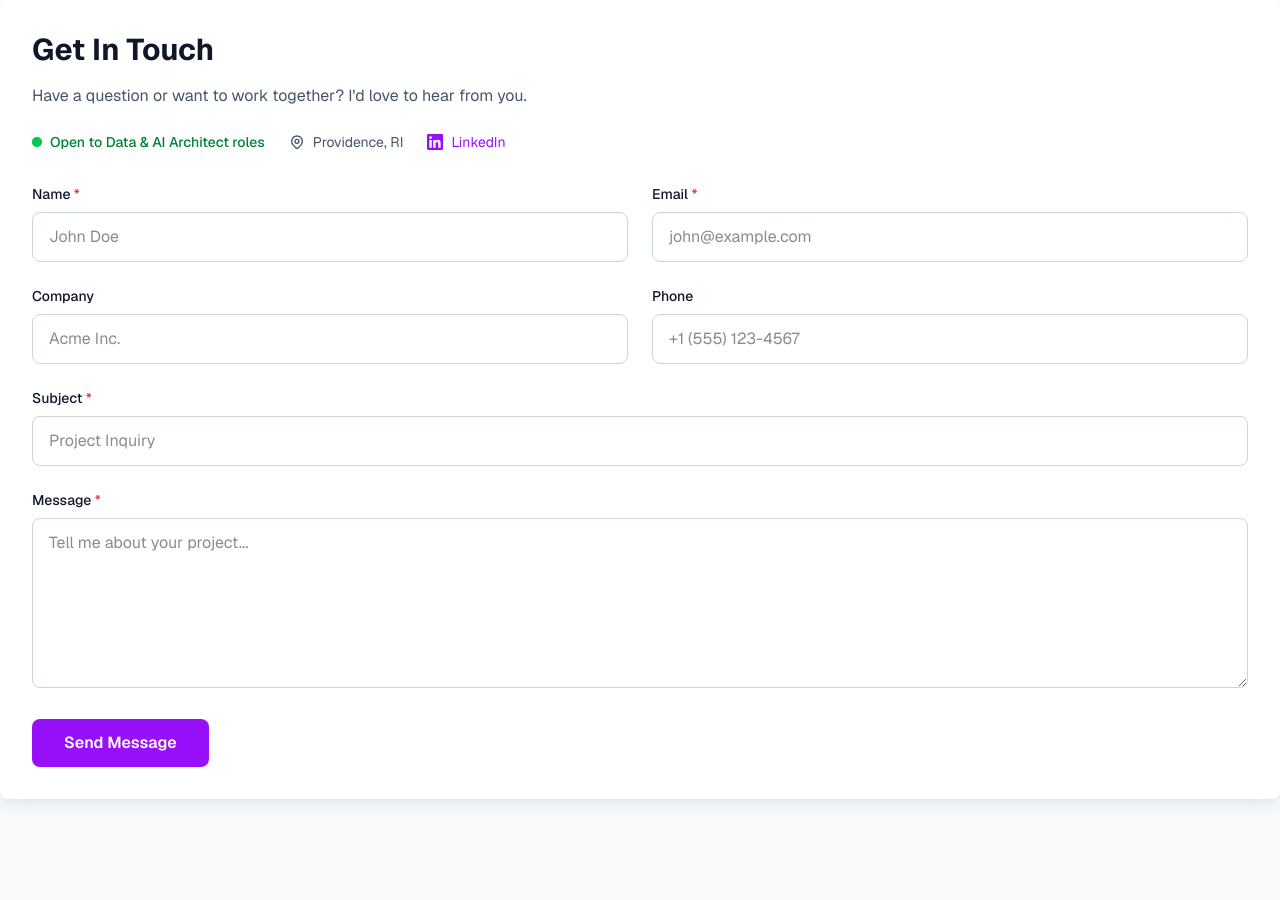
ContactForm Component › should validate minimum length for name
Type "A" into the field labelled "Name *" at [330, 237], box [32,212,628,262]
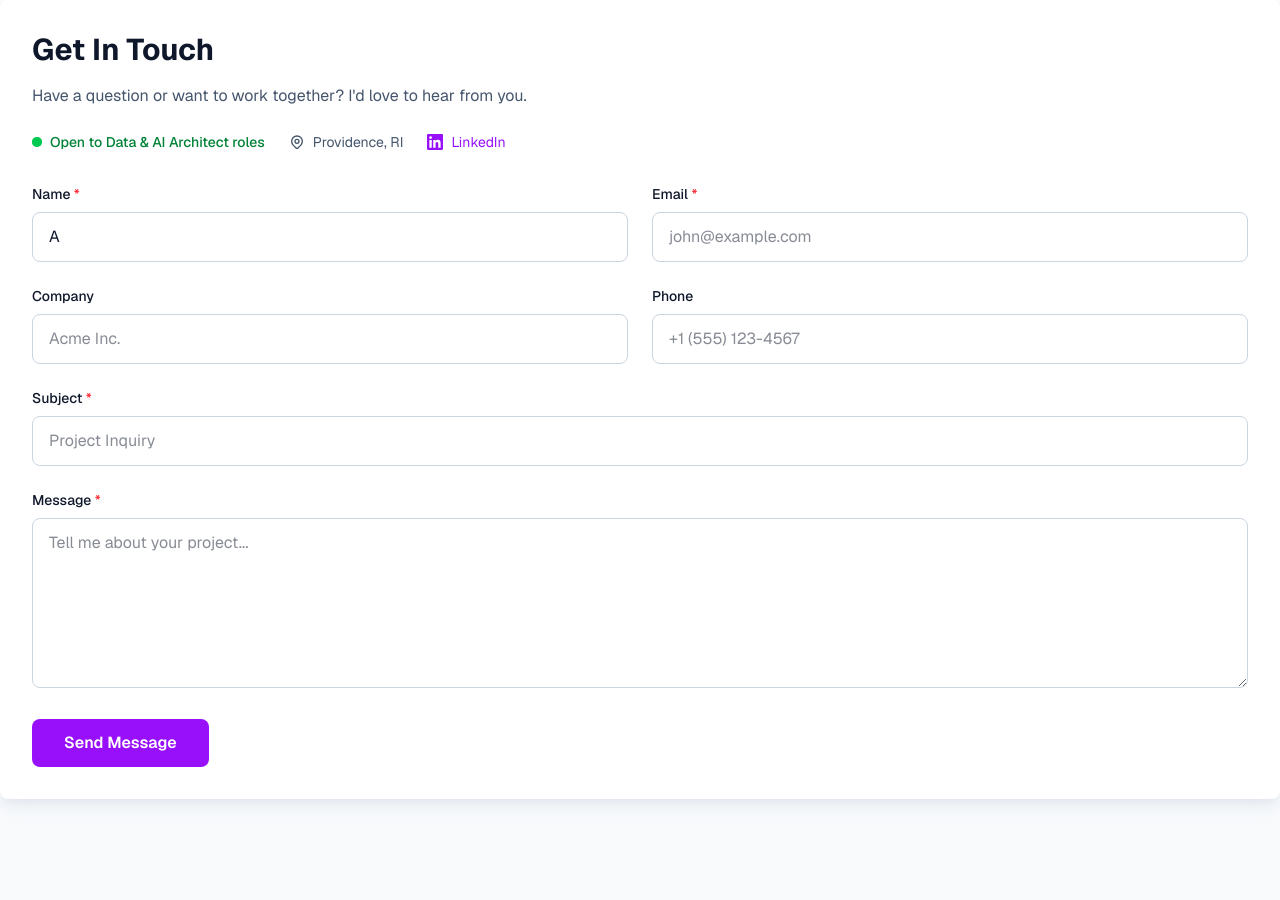
Click the button "Send Message" at [120, 743], box [32,719,209,767]
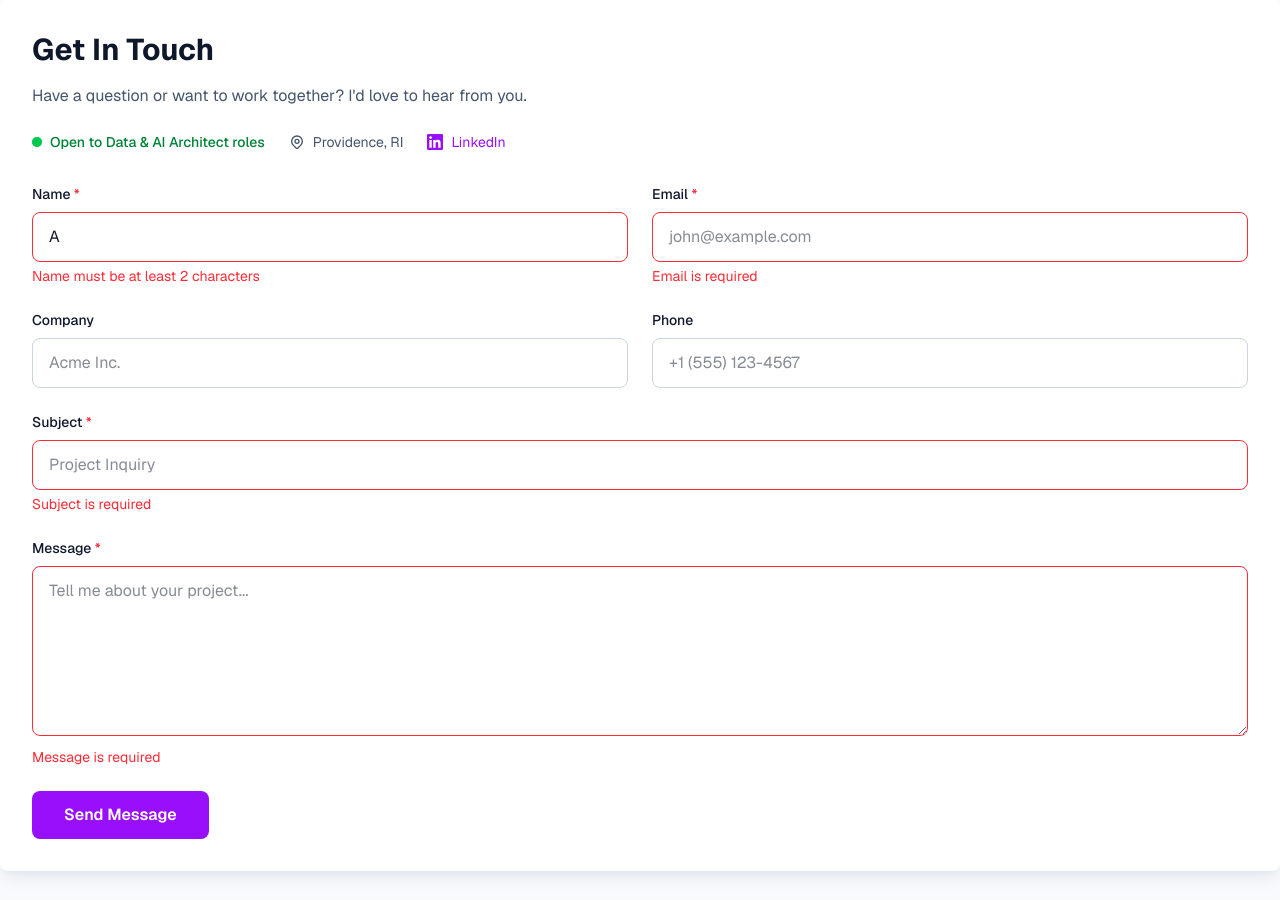
Now the text "Name must be at least 2 characters" is shown, box [32,267,260,285]
